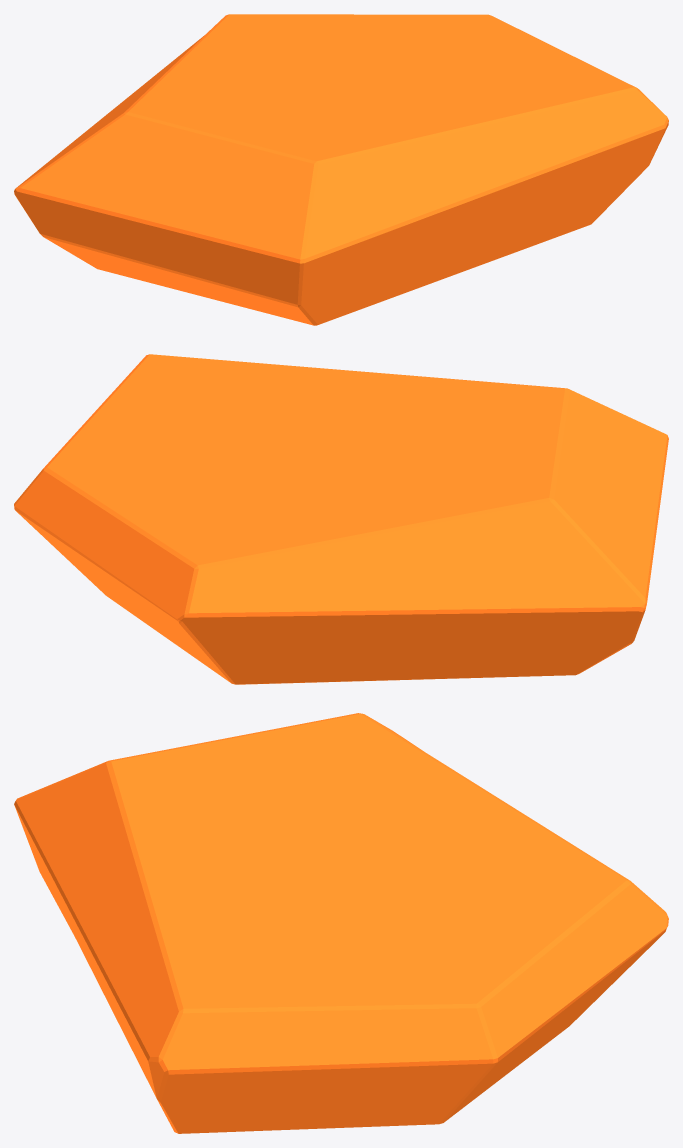
The model's file is crystal_shard_02.glb.
3 renders of one model, top to bottom at view 1: azimuth 30°, elevation 25°; view 2: azimuth 150°, elevation 25°; view 3: azimuth 270°, elevation 25°, orthographic. The views are drawn at different scales.
Parts seen in each view (by area): view 1: crystal_shard_02; view 2: crystal_shard_02; view 3: crystal_shard_02.
Boxes of the visible parts, bbox=[...] form: crystal_shard_02: bbox=[14, 14, 668, 325]; crystal_shard_02: bbox=[14, 354, 668, 684]; crystal_shard_02: bbox=[14, 713, 668, 1133].
Bounding box in the file's own units: 0.5 × 0.1369 × 0.4113.
